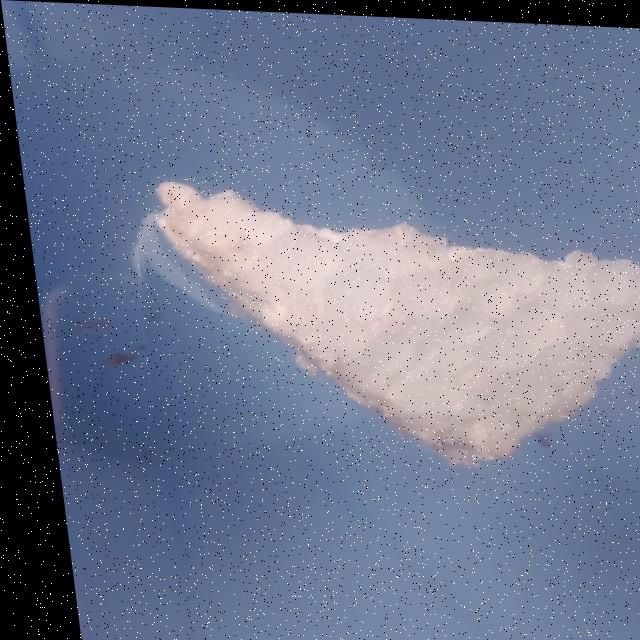litter: (117, 157, 640, 496)
